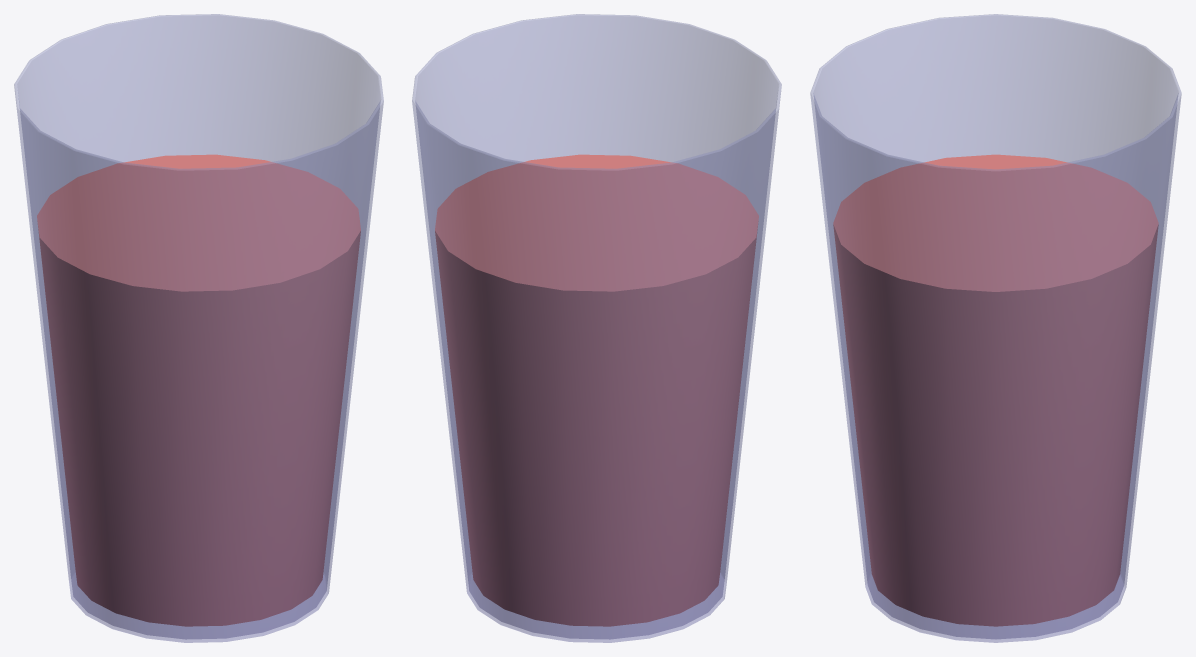
The model's file is SM_Cup.fbx.
The picture shows the model from 3 angles, left to right: view 1: azimuth 30°, elevation 25°; view 2: azimuth 150°, elevation 25°; view 3: azimuth 270°, elevation 25°; orthographic projection.
Visible parts, largest first — view 1: Cup, Water; view 2: Cup, Water; view 3: Cup, Water.
Boxes of the visible parts, x1,y1,x2,y2 form: Cup: (14, 14, 383, 642); Water: (37, 154, 360, 626); Cup: (412, 14, 781, 642); Water: (435, 154, 758, 626); Cup: (810, 14, 1181, 642); Water: (833, 154, 1158, 626).
Bounding box in the file's own units: 0.0807 × 0.1189 × 0.0807.
